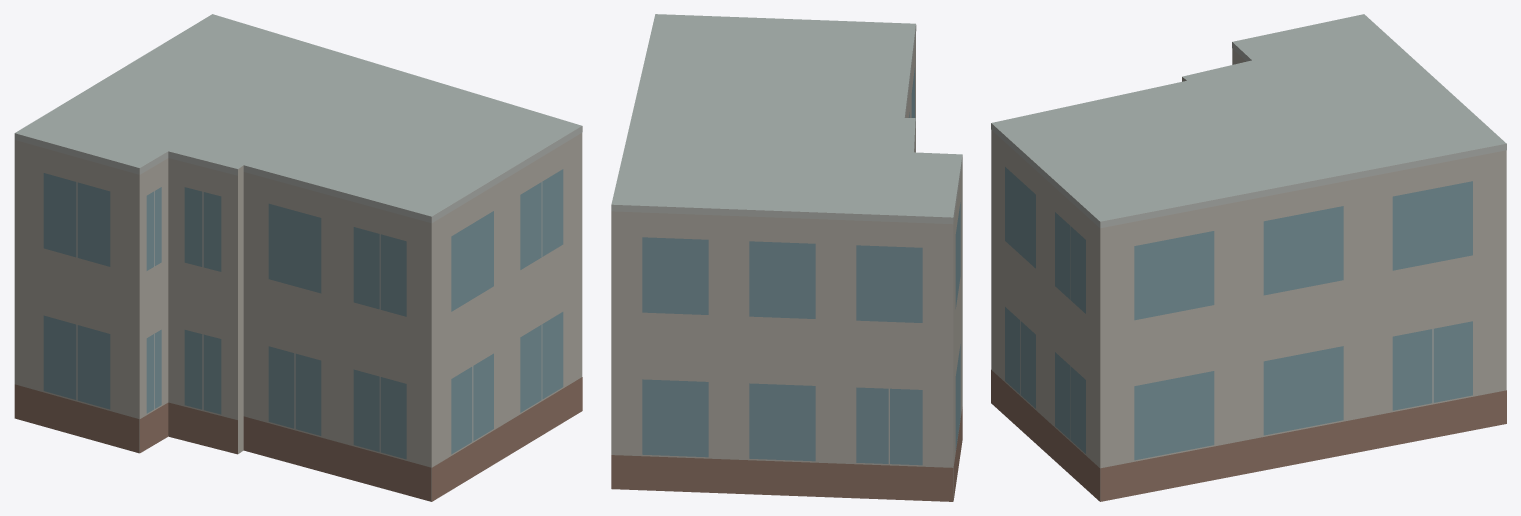
Rendered from survey-upis-32828457.glb.
The picture shows the model from 3 angles, left to right: view 1: azimuth 30°, elevation 25°; view 2: azimuth 150°, elevation 25°; view 3: azimuth 270°, elevation 25°; orthographic projection.
Visible parts, largest first — view 1: survey-upis-32828457.tmp; view 2: survey-upis-32828457.tmp; view 3: survey-upis-32828457.tmp.
Boxes of the visible parts, box(x1,y1,x2,y2) form: survey-upis-32828457.tmp: box(14, 14, 582, 501); survey-upis-32828457.tmp: box(611, 14, 962, 501); survey-upis-32828457.tmp: box(991, 14, 1506, 501).
Size of the model in its own units: 16.57 by 10.41 by 17.38.
